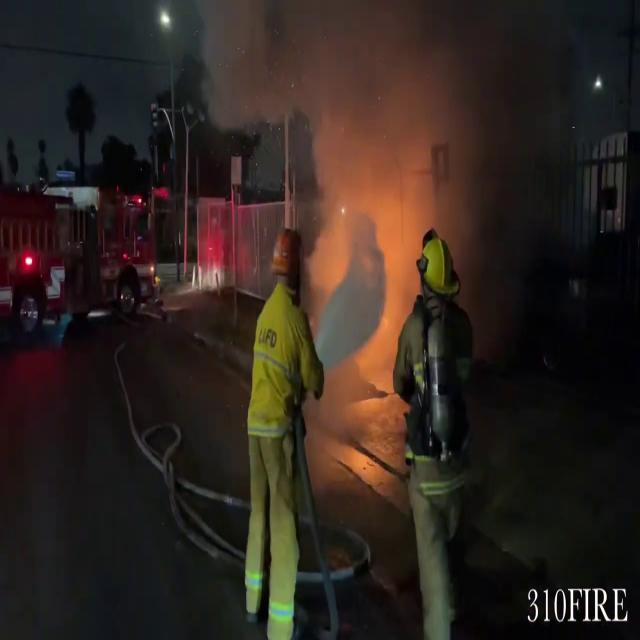Smoke: (286, 0, 586, 362)
